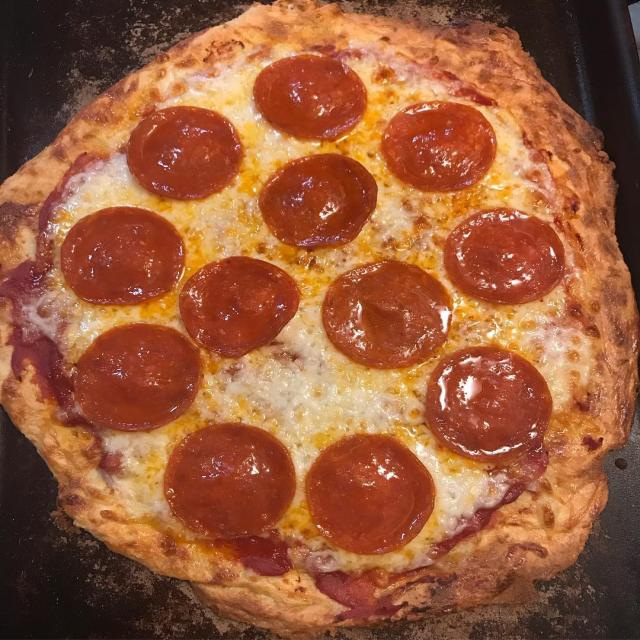pepperoni: (305, 434, 437, 556), (163, 423, 298, 538), (67, 322, 203, 432), (324, 259, 454, 372), (429, 349, 558, 461), (178, 253, 300, 363), (57, 203, 181, 307), (126, 101, 244, 205), (262, 150, 378, 255), (447, 206, 564, 302), (252, 49, 370, 144), (383, 98, 499, 193)
pizza: (0, 0, 640, 640)
